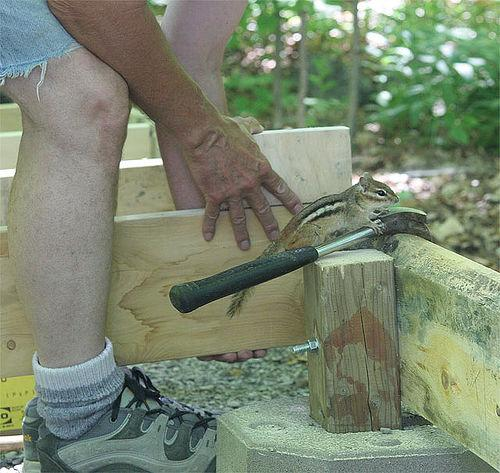hammer: (167, 203, 431, 313)
